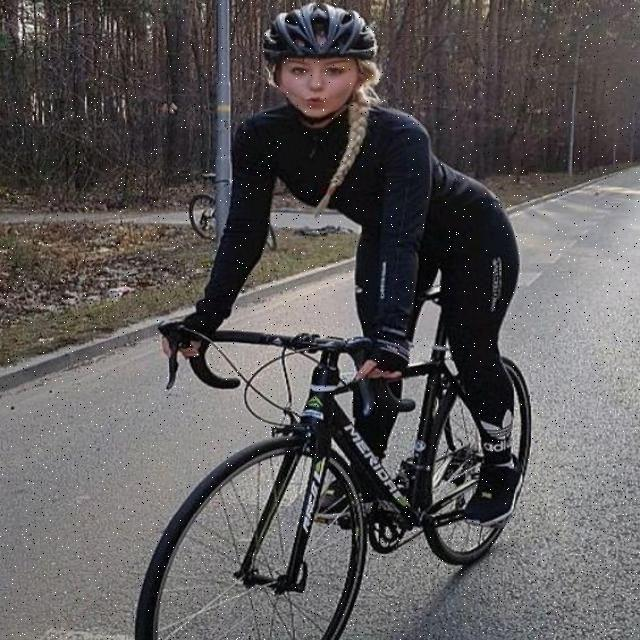helmet: (260, 6, 384, 124)
